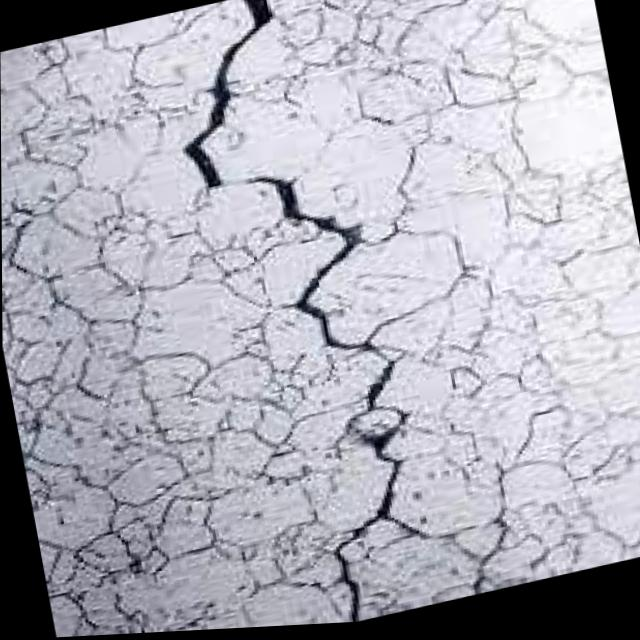Crack: (154, 0, 471, 634)
